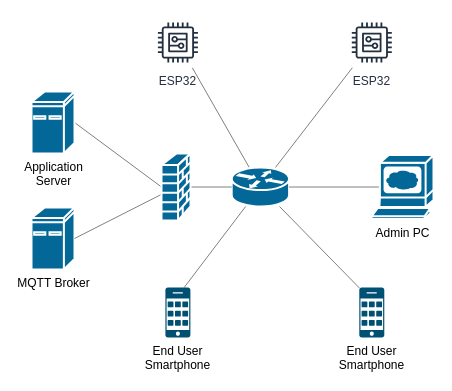
The diagram is 452 pixels wide and 391 high, and some of its shapes have lost their labels. Here are the shapes that lost their labels. From the top down, the centre of each, then its label:
the point at 175,186: Firewall
the point at 260,186: Router
